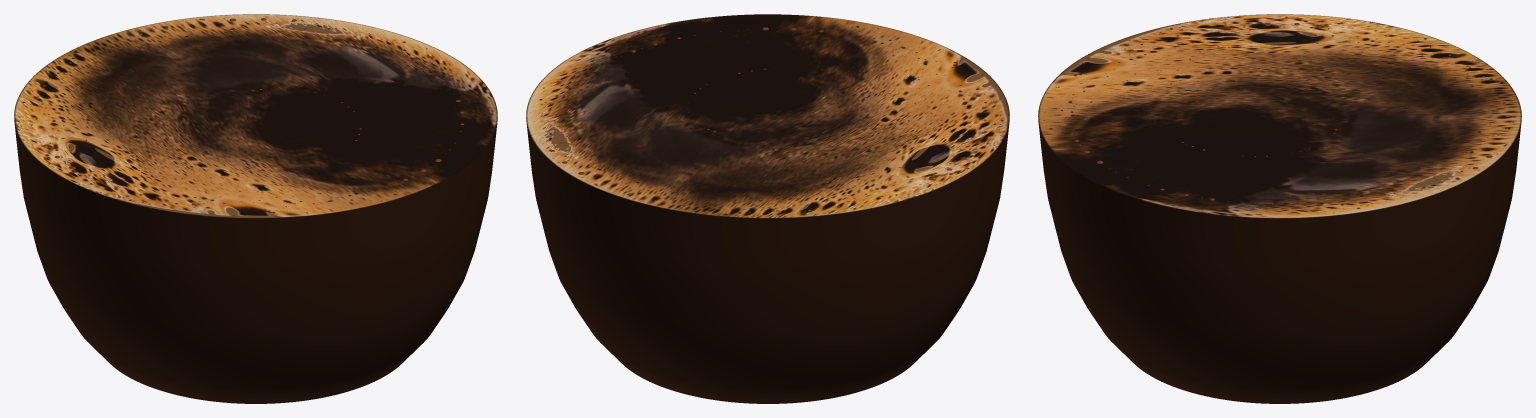
File: coffee-liquid.glb
3 renders of one model, left to right at view 1: azimuth 30°, elevation 25°; view 2: azimuth 150°, elevation 25°; view 3: azimuth 270°, elevation 25°, orthographic.
Visible parts, largest first — view 1: Coffee_Liquid_Export, Coffee_Surface_Export, Coffee_Crema_Export; view 2: Coffee_Liquid_Export, Coffee_Surface_Export, Coffee_Crema_Export; view 3: Coffee_Liquid_Export, Coffee_Surface_Export, Coffee_Crema_Export.
Boxes of the visible parts, x1,y1,x2,y2 form: Coffee_Liquid_Export: (14, 124, 497, 403); Coffee_Surface_Export: (14, 14, 497, 218); Coffee_Crema_Export: (14, 14, 497, 217); Coffee_Liquid_Export: (526, 124, 1009, 403); Coffee_Surface_Export: (526, 14, 1009, 218); Coffee_Crema_Export: (526, 15, 1008, 217); Coffee_Liquid_Export: (1038, 124, 1521, 403); Coffee_Surface_Export: (1038, 14, 1521, 218); Coffee_Crema_Export: (1038, 14, 1521, 217).
Size of the model in its own units: 0.086 by 0.0481 by 0.086.
4 materials, 2 textured.
